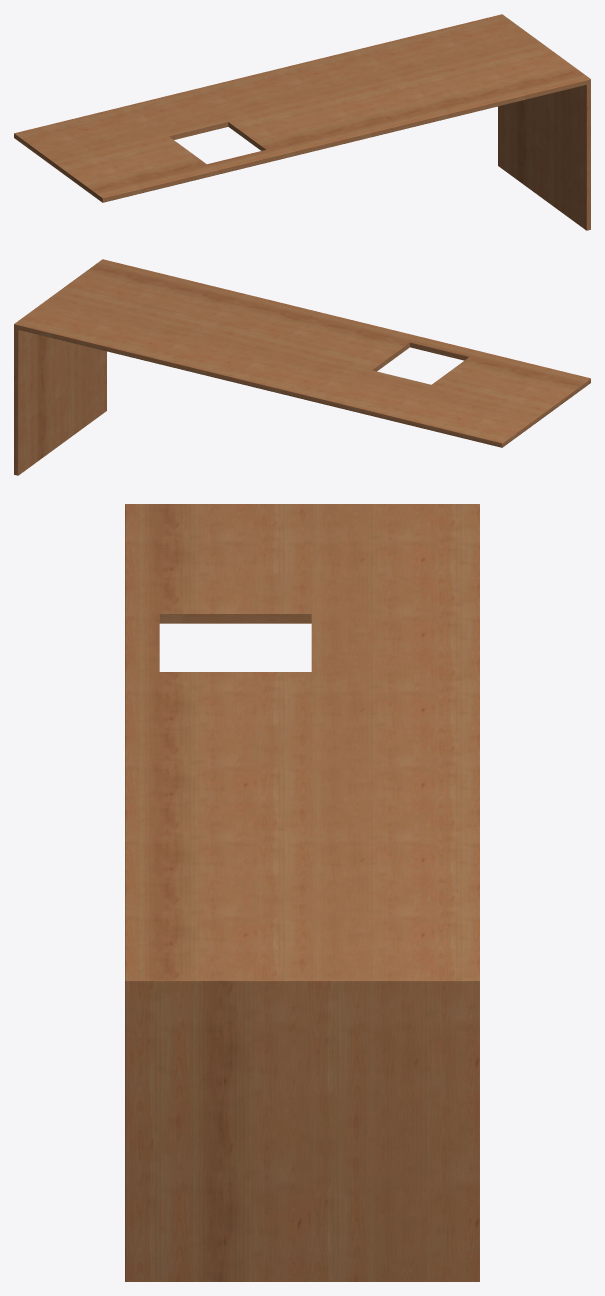
Rendered from SM_Counter_Sink_Stove.obj.
The picture shows the model from 3 angles, top to bottom: view 1: azimuth 30°, elevation 25°; view 2: azimuth 150°, elevation 25°; view 3: azimuth 270°, elevation 25°; orthographic projection. The views are drawn at different scales.
Visible parts, largest first — view 1: SM_Counter_Sink_Stove; view 2: SM_Counter_Sink_Stove; view 3: SM_Counter_Sink_Stove.
Part boxes in pixels (box(x1,y1,x2,y2)): SM_Counter_Sink_Stove: box(14, 14, 590, 230); SM_Counter_Sink_Stove: box(14, 259, 590, 475); SM_Counter_Sink_Stove: box(125, 504, 479, 1281).
Bounding box in the file's own units: 3.18 × 0.9373 × 1.
